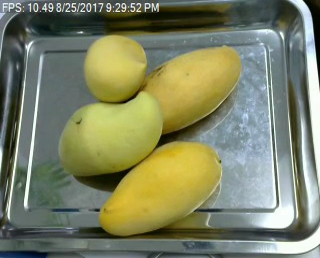Mango: (100, 141, 221, 236), (131, 45, 241, 135), (58, 91, 163, 176), (84, 35, 146, 103)
